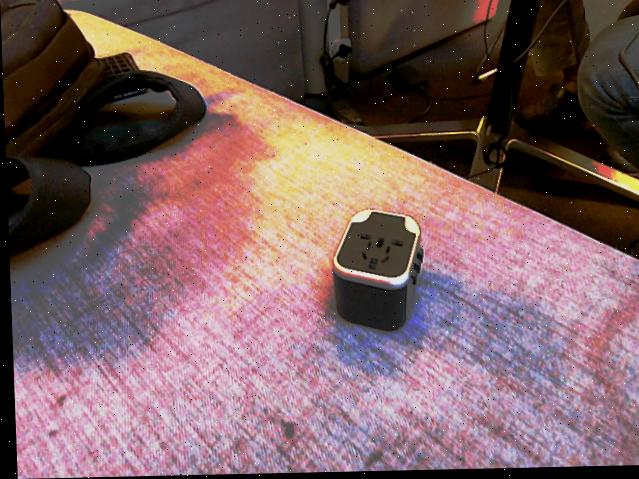adapter: (327, 209, 425, 334)
